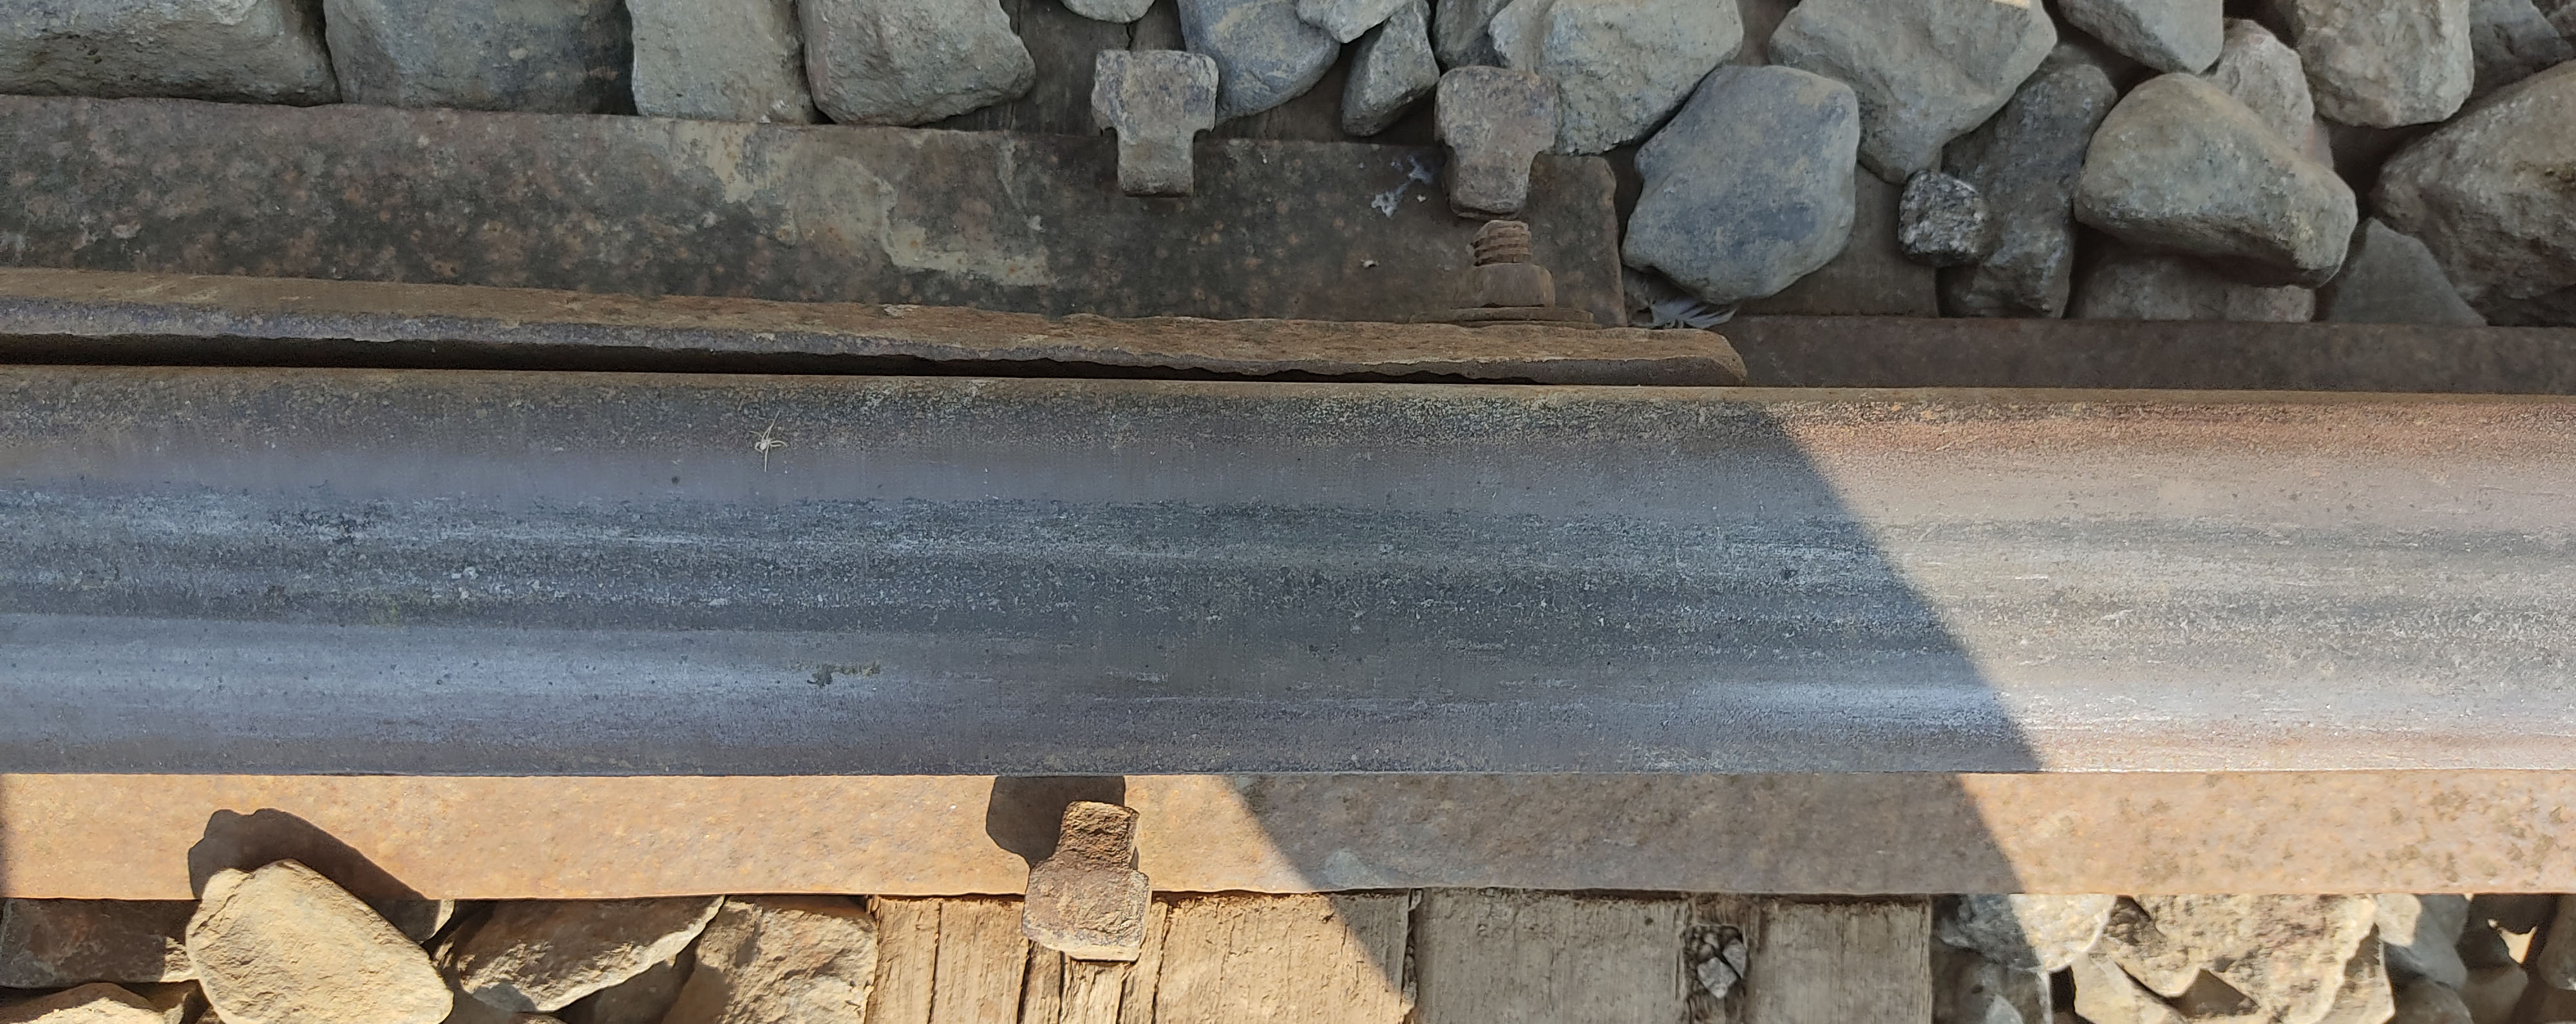error1: (984, 731, 1278, 1016), (1051, 49, 1288, 276)
